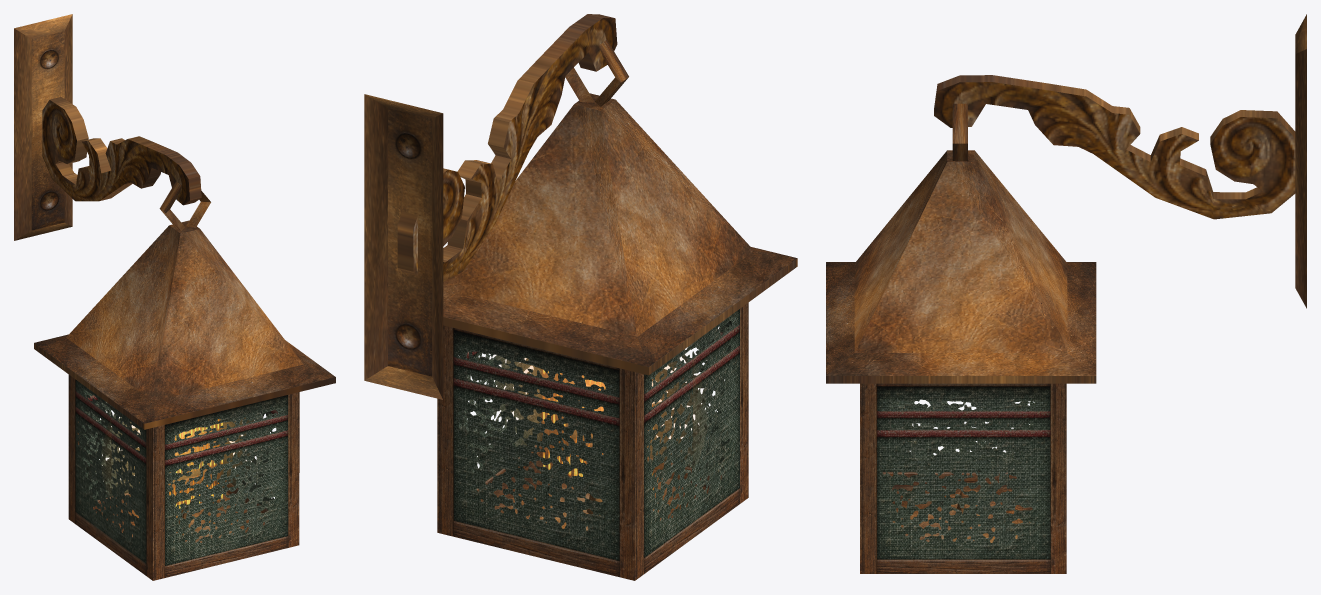
File: mm9_deco_lanternwall1.glb
3 views of the same model, side by side, from view 1: azimuth 30°, elevation 25°; view 2: azimuth 150°, elevation 25°; view 3: azimuth 270°, elevation 25° (orthographic). The views are drawn at different scales.
Parts seen in each view (by area): view 1: Lanternwall1; view 2: Lanternwall1; view 3: Lanternwall1.
Boxes of the visible parts, <box> form: Lanternwall1: <box>14,14,335,580</box>; Lanternwall1: <box>364,14,797,580</box>; Lanternwall1: <box>826,14,1306,573</box>.
Bounding box in the file's own units: 0.4092 × 0.8341 × 0.7285.
4 materials, 4 textured.
